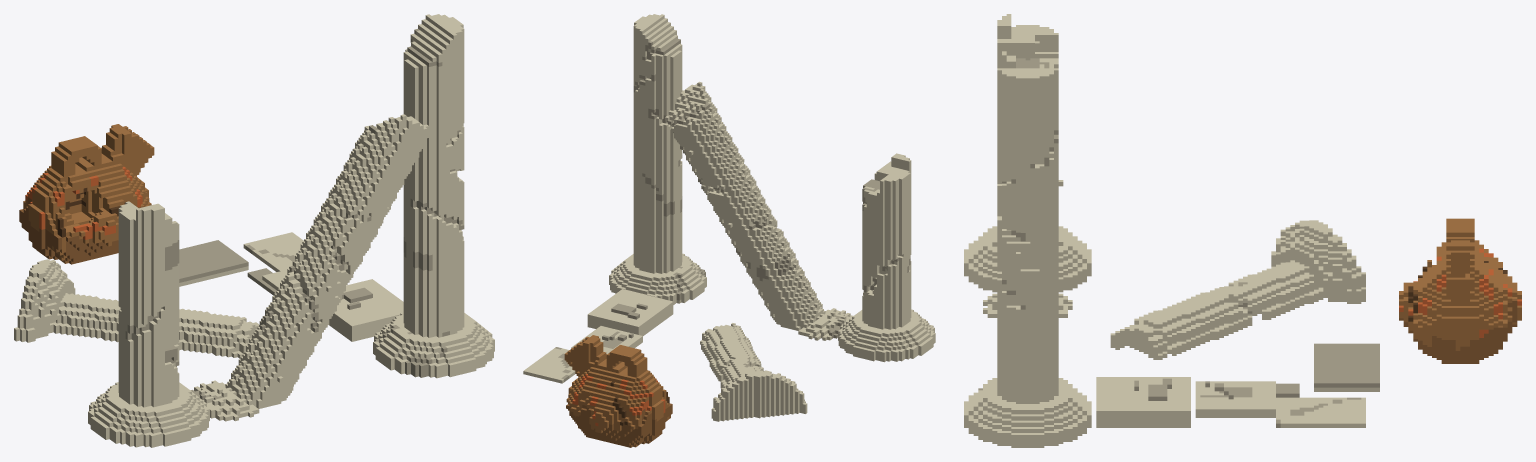
3 views of the same model, side by side, from view 1: azimuth 30°, elevation 25°; view 2: azimuth 150°, elevation 25°; view 3: azimuth 270°, elevation 25° (orthographic). The views are drawn at different scales.
Parts seen in each view (by area): view 1: VOX; view 2: VOX; view 3: VOX.
Boxes of the visible parts, bbox=[...] form: VOX: bbox=[14, 14, 494, 447]; VOX: bbox=[523, 14, 935, 447]; VOX: bbox=[964, 14, 1521, 447].
Bounding box in the file's own units: 0.103 × 0.083 × 0.118.
